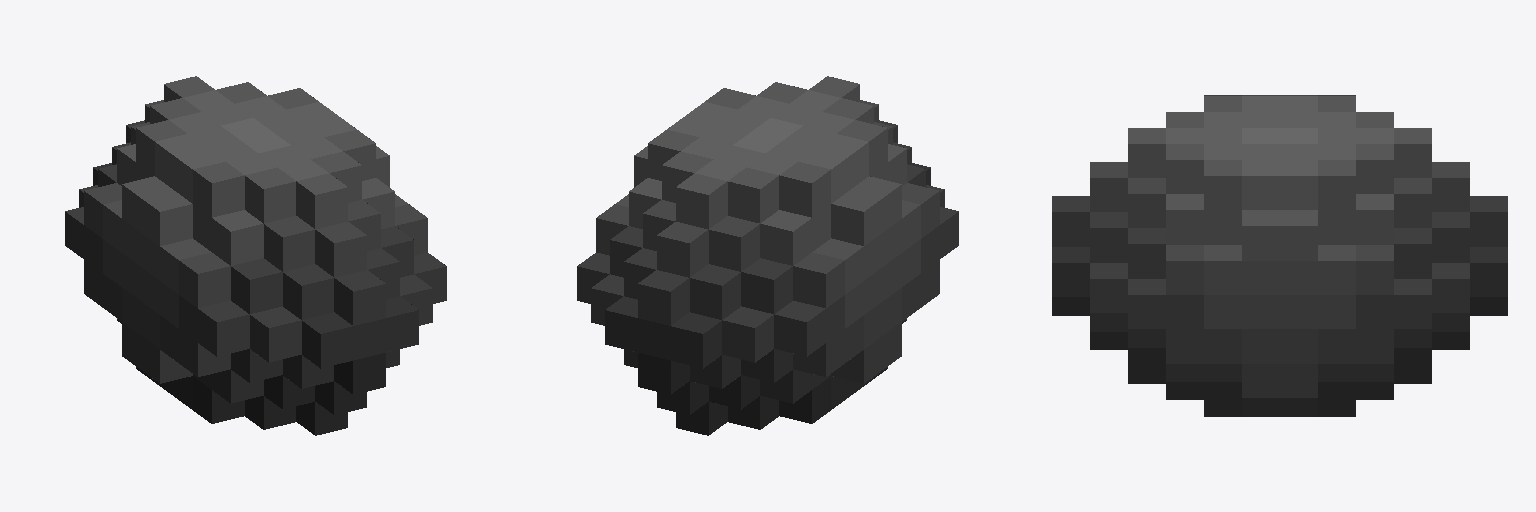
The picture shows the model from 3 angles: view 1: azimuth 30°, elevation 25°; view 2: azimuth 150°, elevation 25°; view 3: azimuth 270°, elevation 25°; orthographic projection.
Visible parts, largest first — view 1: ThunderLordStaticCharge; view 2: ThunderLordStaticCharge; view 3: ThunderLordStaticCharge.
Boxes of the visible parts, box(x1,y1,x2,y2) form: ThunderLordStaticCharge: box(65, 76, 446, 435); ThunderLordStaticCharge: box(577, 76, 958, 435); ThunderLordStaticCharge: box(1052, 95, 1507, 416).
Size of the model in its own units: 7 by 7 by 12.
1 materials, 1 textured.